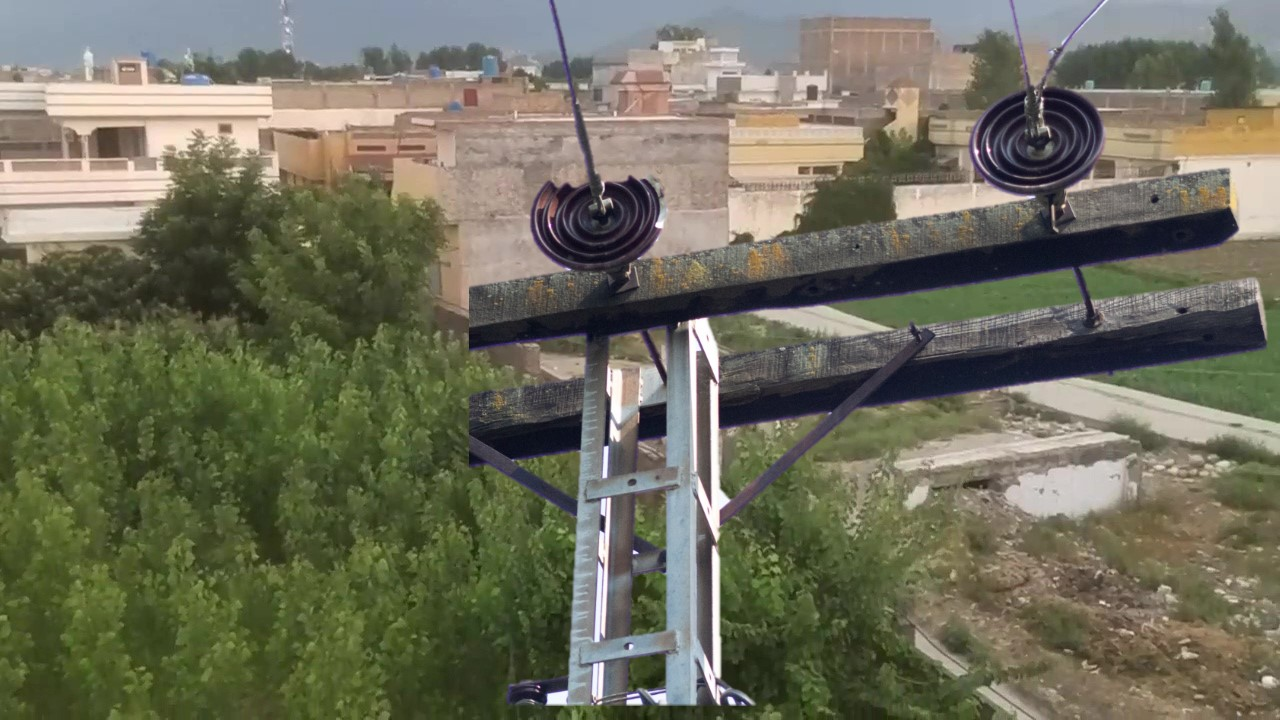defect_disc: (528, 170, 670, 273)
insulator_disc: (964, 86, 1112, 199)
